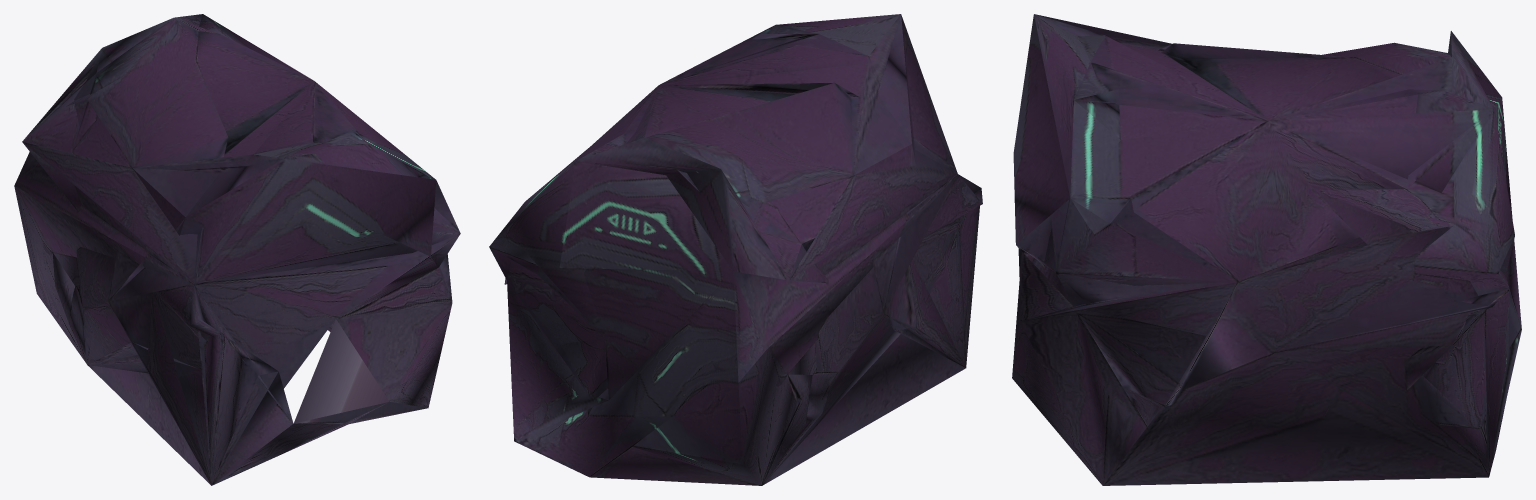
File: Cofre2.glb
3 renders of one model, left to right at view 1: azimuth 30°, elevation 25°; view 2: azimuth 150°, elevation 25°; view 3: azimuth 270°, elevation 25°, orthographic. The views are drawn at different scales.
Parts seen in each view (by area): view 1: tripo_node_9ec3cc4d-e006-44ad-b1ee-ebd21912bdbe; view 2: tripo_node_9ec3cc4d-e006-44ad-b1ee-ebd21912bdbe; view 3: tripo_node_9ec3cc4d-e006-44ad-b1ee-ebd21912bdbe.
Part boxes in pixels (bbox=[...]): tripo_node_9ec3cc4d-e006-44ad-b1ee-ebd21912bdbe: bbox=[14, 14, 460, 485]; tripo_node_9ec3cc4d-e006-44ad-b1ee-ebd21912bdbe: bbox=[489, 14, 982, 485]; tripo_node_9ec3cc4d-e006-44ad-b1ee-ebd21912bdbe: bbox=[1012, 14, 1521, 485].
Size of the model in its own units: 0.6797 by 0.7432 by 0.9072.
1 material, 1 textured.
